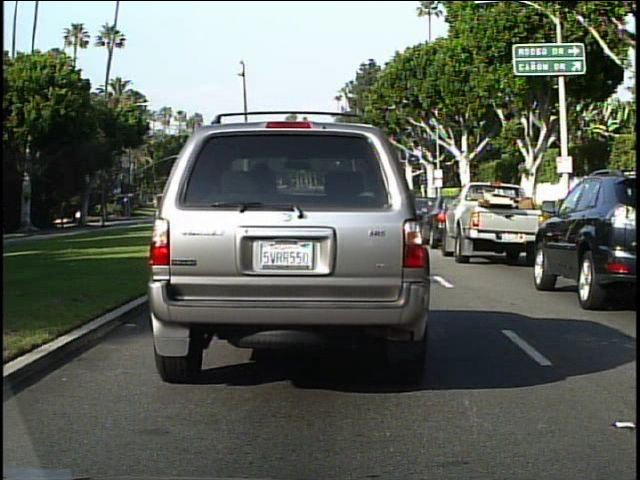person: (74, 206, 84, 227)
